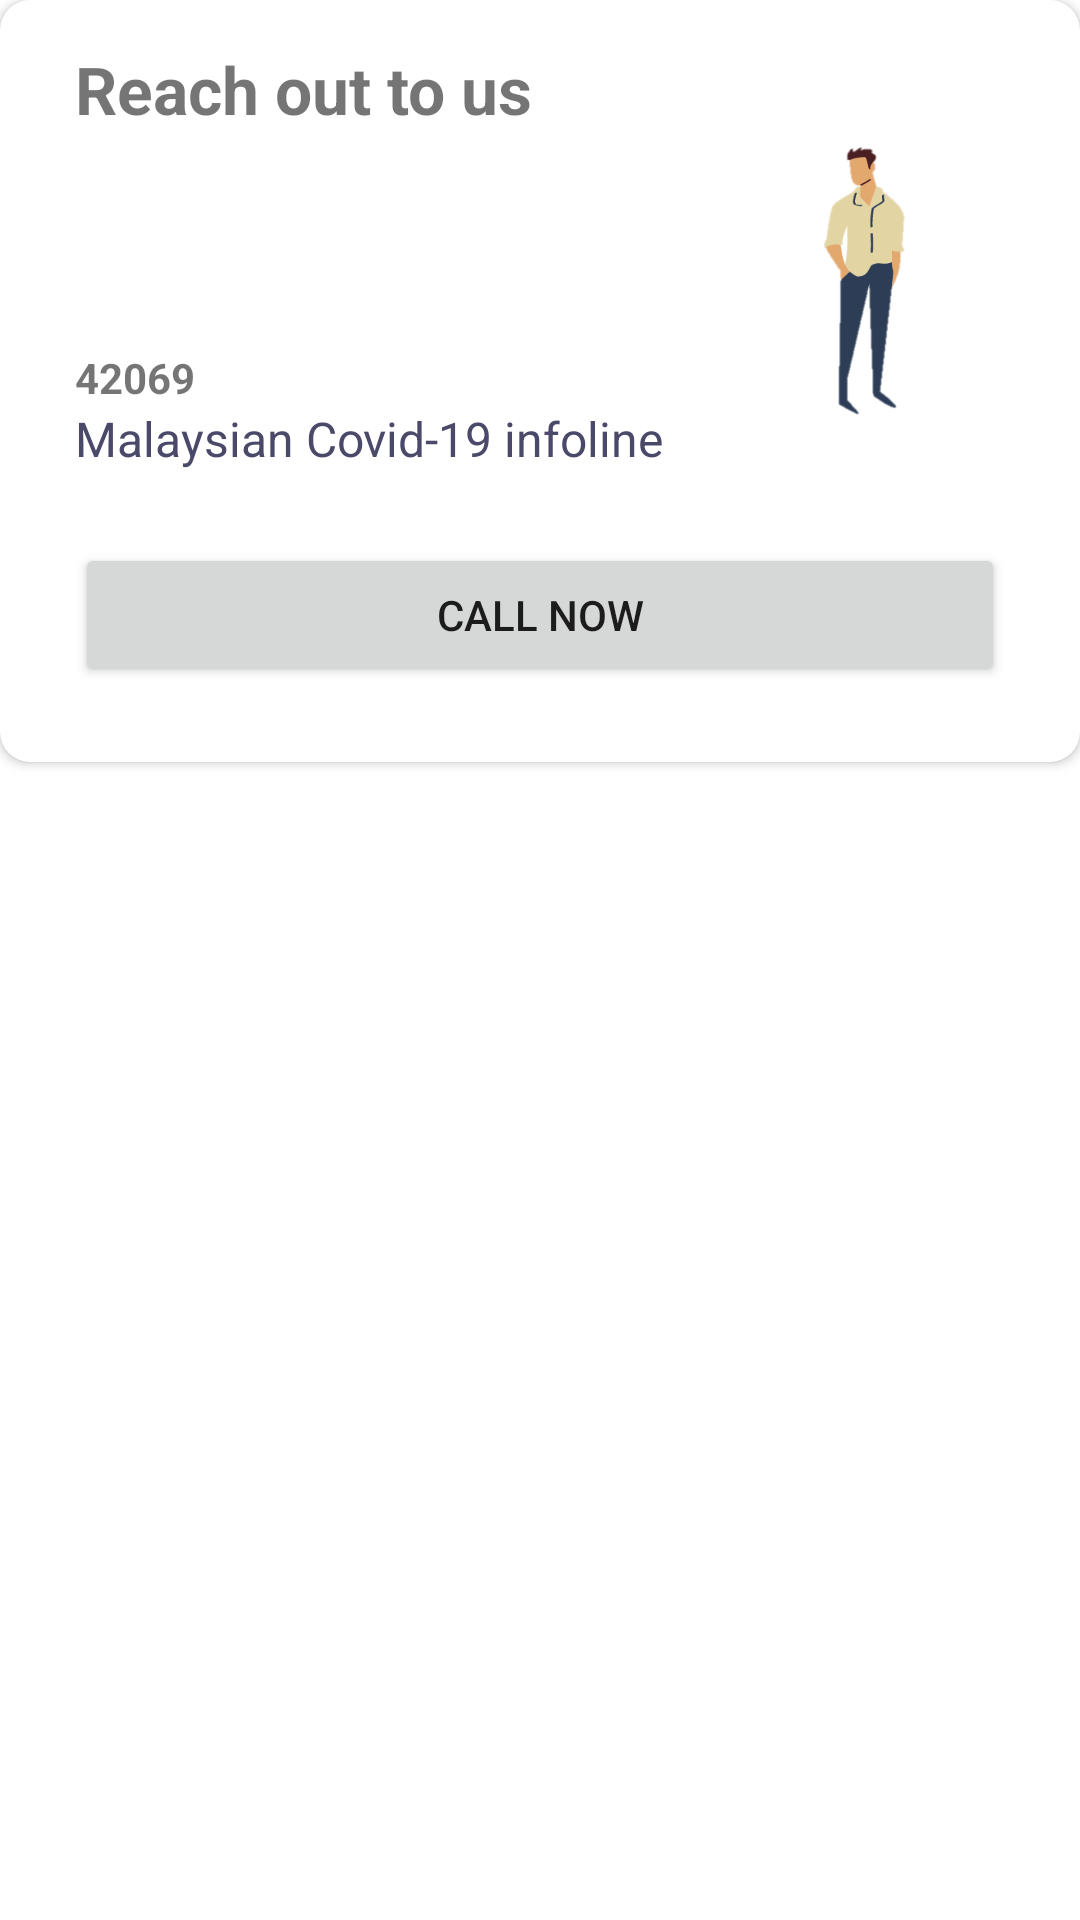

Icon click points for this 1080w x 1920h phone screenshot, format point (x, y):
person: point (864, 281)
